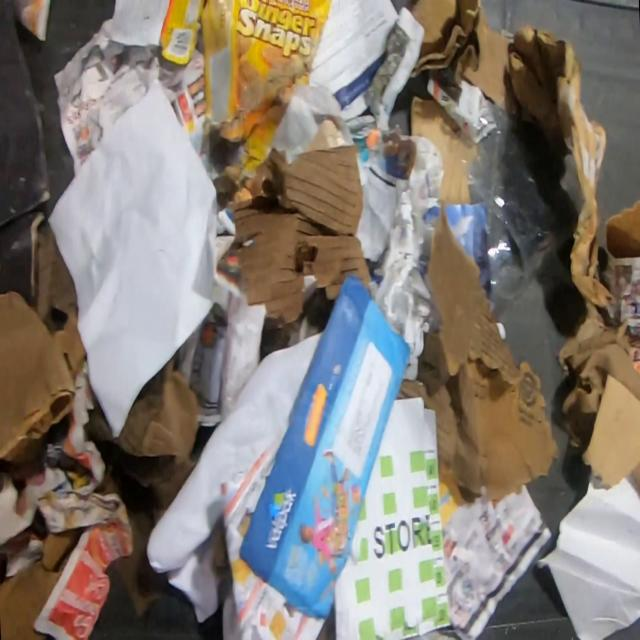cardboard: (408, 0, 617, 319), (394, 205, 562, 506), (159, 0, 332, 195), (83, 347, 202, 623), (223, 143, 371, 355), (0, 217, 86, 482), (0, 526, 78, 640), (580, 372, 640, 490), (409, 95, 469, 205), (597, 198, 640, 339)
rigid_plastic: (445, 96, 578, 302)
